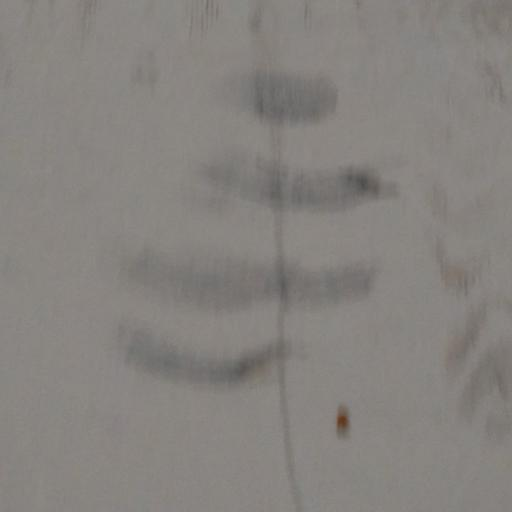stain: (103, 12, 395, 449), (431, 0, 512, 455)
